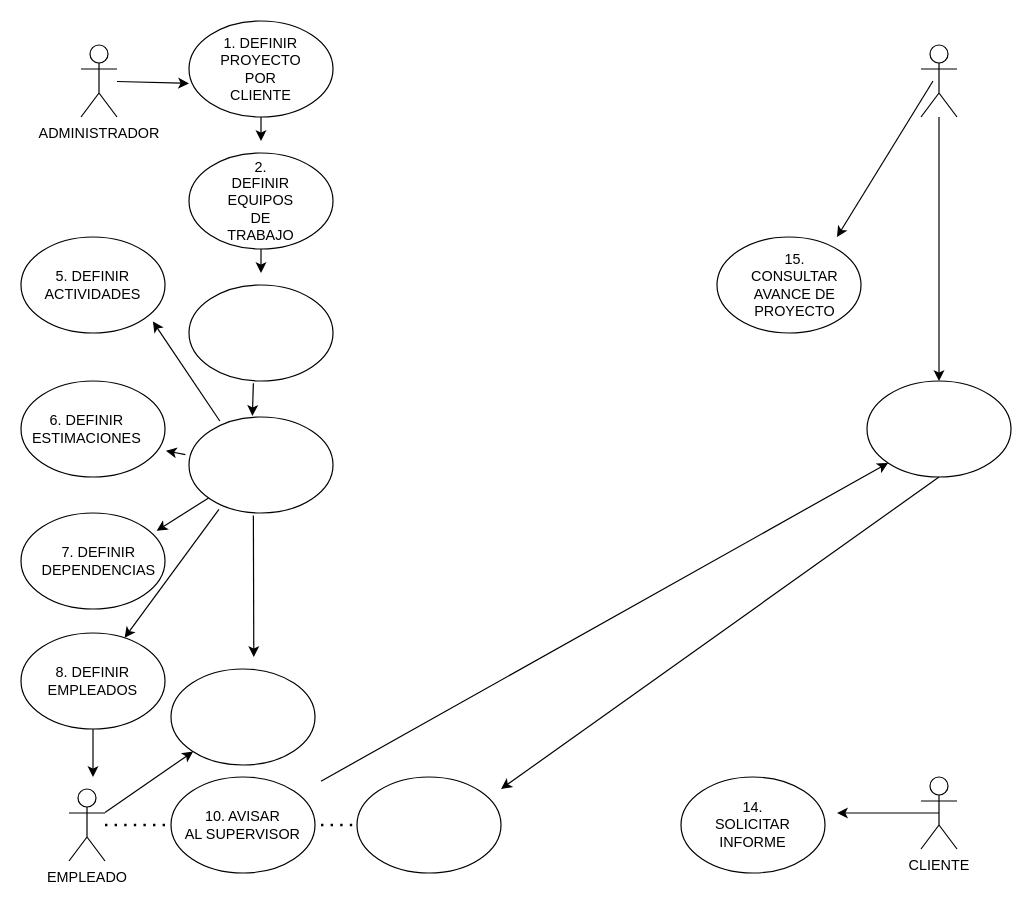
Image size: 1032x907. Some labels were removed from this diagram. The centre of each missing label's shape, as x and y in pixels:
11. REALIZAR TAREA NO ASIGNADA: [428,824]
12, ASIGNAR TAREA NO PLANIFICADA: [938,428]
13. DECLARAR AVANCE: [242,716]
3. CONTEMPLAR DATOS DE PROYECTO: [260,332]
4. DEFINIR INFORMACION EN PROYECTO SELECCIONADO: [260,464]
SUPERVISOR: [938,80]
